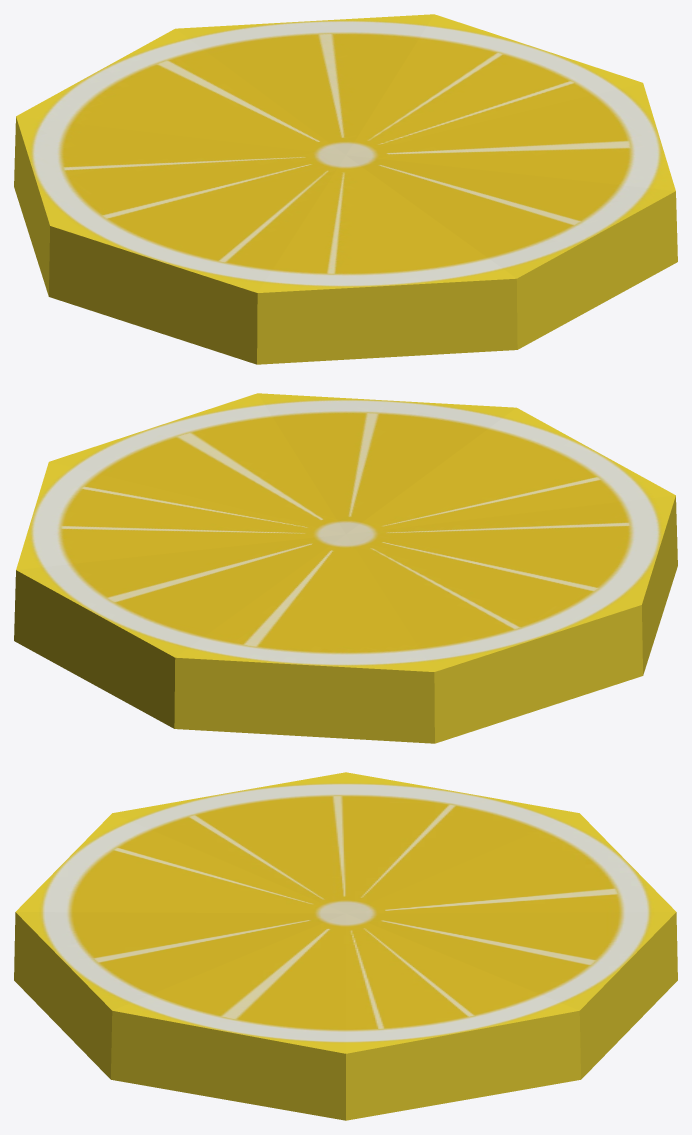
File: lemon_slice.glb
3 views of the same model, one above another, from view 1: azimuth 30°, elevation 25°; view 2: azimuth 150°, elevation 25°; view 3: azimuth 270°, elevation 25° (orthographic). The views are drawn at different scales.
Parts seen in each view (by area): view 1: lemon_slice_slice; view 2: lemon_slice_slice; view 3: lemon_slice_slice.
Boxes of the visible parts, x1,y1,x2,y2 form: lemon_slice_slice: (14,14,677,364); lemon_slice_slice: (14,393,677,743); lemon_slice_slice: (14,772,677,1120).
Bounding box in the file's own units: 0.0703 × 0.008 × 0.0703.
Materials: 1 (1 with a texture image).
